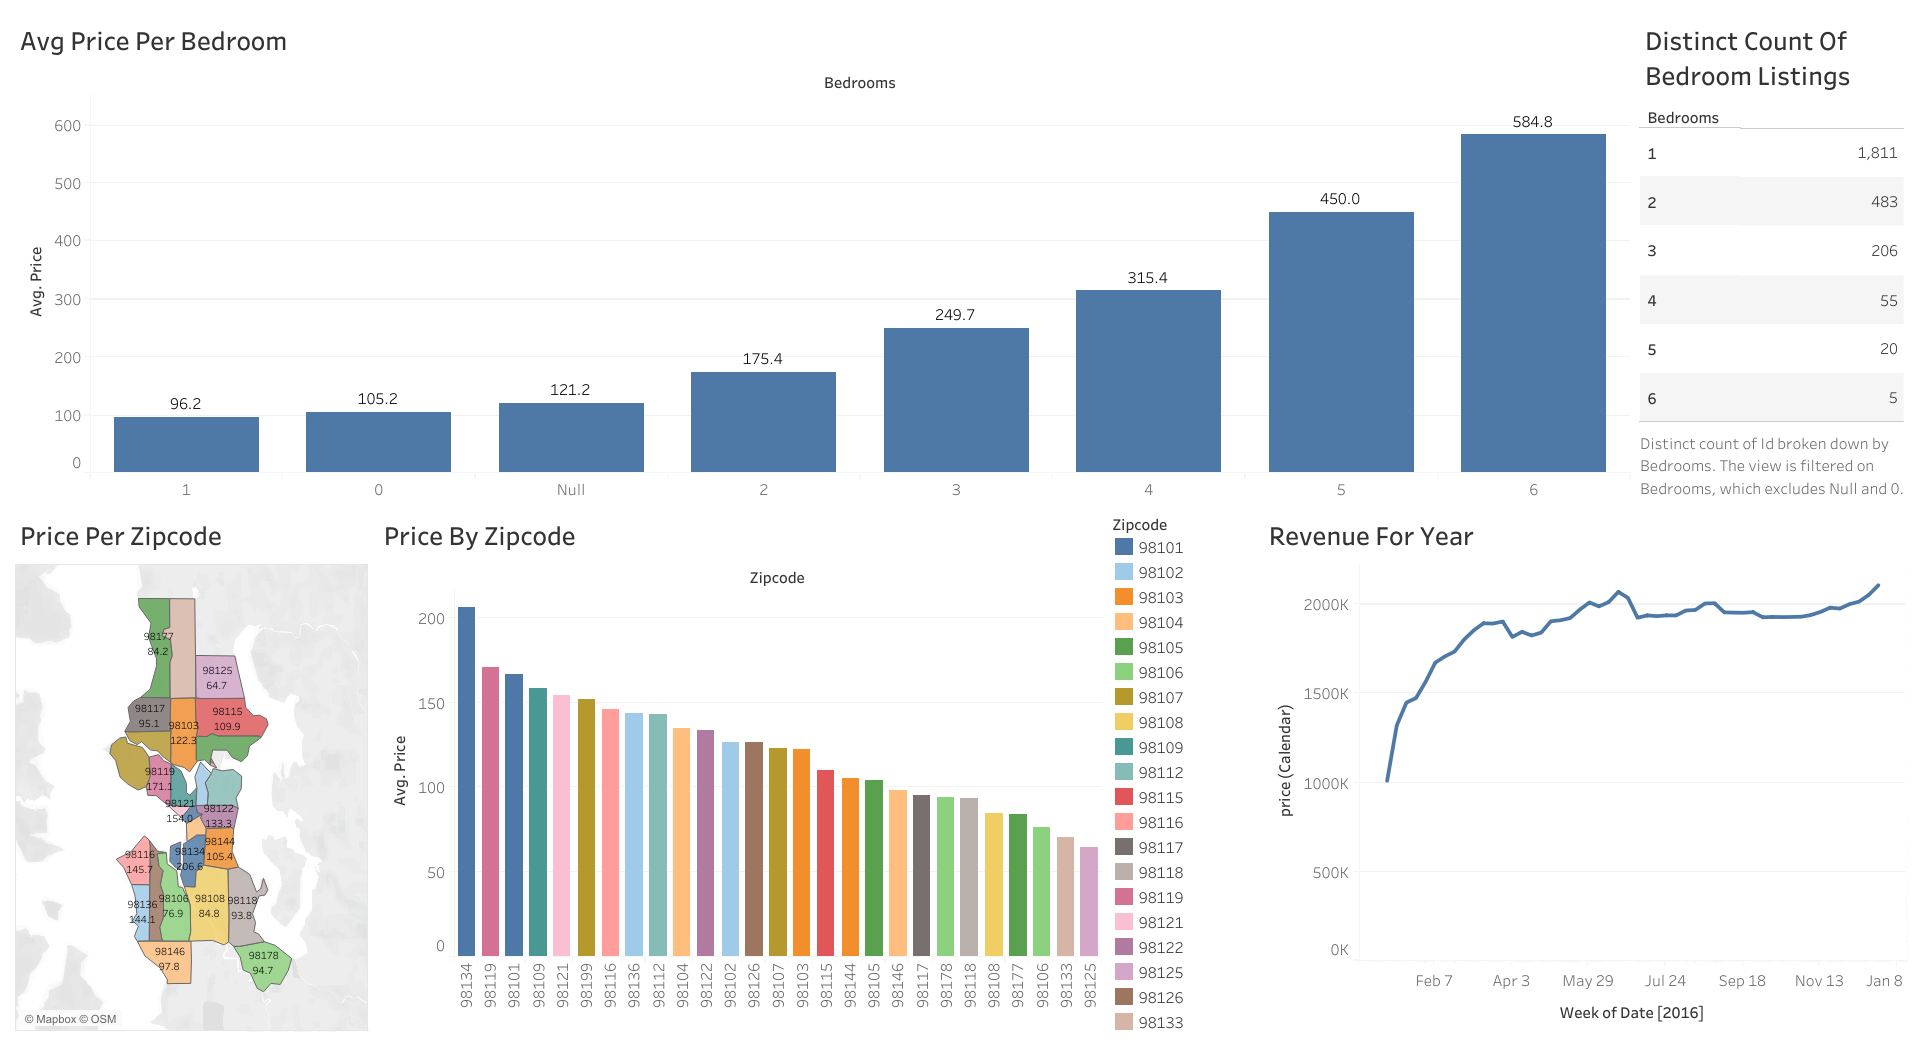

This screenshot's page, from the dashboard's own definition file:
{"tool":"tableau","page":{"name":"Dashboard 1","canvas":[1000,1000],"units":"permille","ordinal":0},"visuals":[{"type":"worksheet","title":"Sheet 4","mark":"Automatic","rows":["price"],"cols":["bedrooms"],"box":[4.8,10,847.3,473.2]},{"type":"worksheet","title":"Sheet 5","mark":"Automatic","rows":["bedrooms"],"box":[852.1,10,143,473.2]},{"type":"worksheet","title":"Sheet 2","mark":"Multipolygon","box":[4.8,483.2,189.9,506.9]},{"type":"worksheet","title":"Sheet 1","mark":"Automatic","rows":["price"],"cols":["zipcode"],"box":[194.7,483.2,381.6,506.9]},{"type":"legend","title":"Sheet 1","param":"[federated.1upbq251663mod16bvn2200zya01].[none:zipcode:ok]","box":[576.3,483.2,79.7,506.9]},{"type":"worksheet","title":"Sheet 3","mark":"Automatic","rows":["price (Calendar)"],"cols":["date"],"box":[656,483.2,339.2,506.9]}]}

Visuals, with their boxes on the dashboard's canvas, which has no fixed pixel size, in thousandths of its width and height (x1, y1, x2, y2). These are canvas units, not pixel positions in the 1919x1045 screenshot, which may show the page scaled, cropped or inside an application window:
"Sheet 4" worksheet: detection(5, 10, 852, 483)
"Sheet 5" worksheet: detection(852, 10, 995, 483)
"Sheet 2" worksheet (Multipolygon marks): detection(5, 483, 195, 990)
"Sheet 1" worksheet: detection(195, 483, 576, 990)
"Sheet 1" legend: detection(576, 483, 656, 990)
"Sheet 3" worksheet: detection(656, 483, 995, 990)
